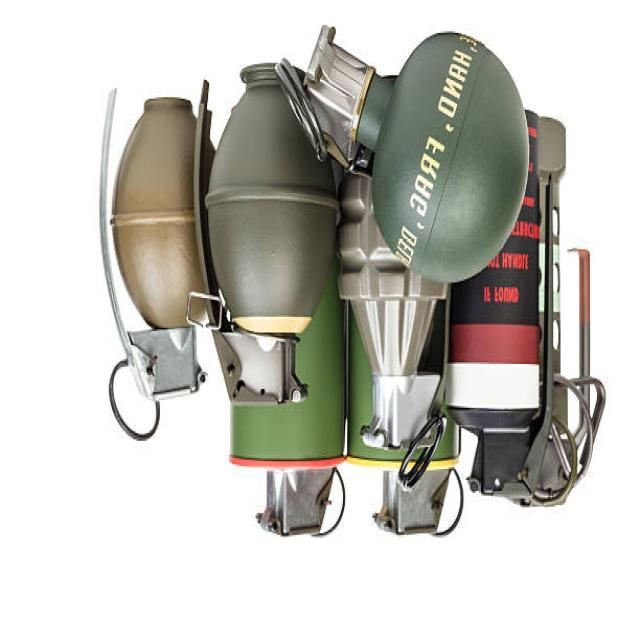grenade: (278, 23, 533, 288), (188, 58, 350, 407), (92, 84, 213, 448), (339, 171, 452, 490)
